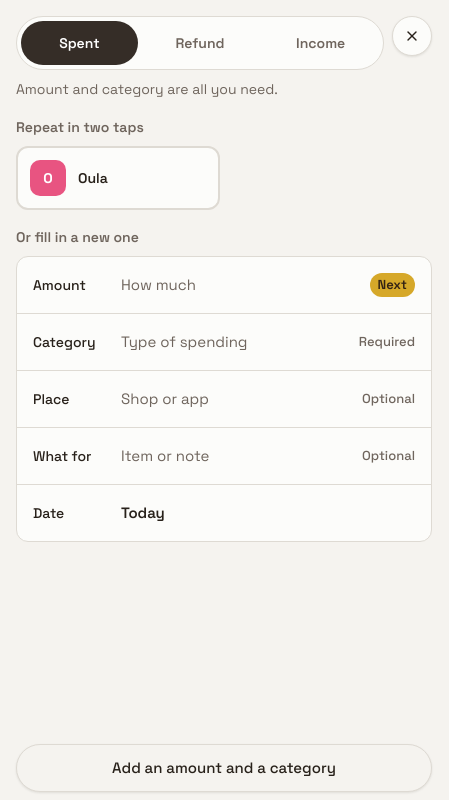
/log tiles (MOB-R70 E2, H4) › a place with no items shows no amount and fills place and category only
The width and height of the screenshot is (449, 800).
Click the button "O Oula": (118, 178) x1=16 y1=146 x2=220 y2=210
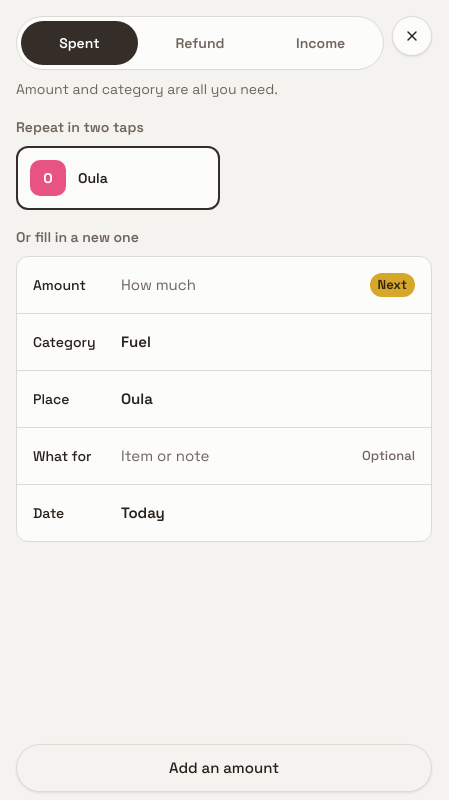
Expected: the button "Amount How much Next" is shown, x1=17 y1=257 x2=431 y2=313
Now the button "Place Oula" is shown, box x1=17 y1=371 x2=431 y2=427
Now the button "Category Fuel" is shown, box x1=17 y1=314 x2=431 y2=370
